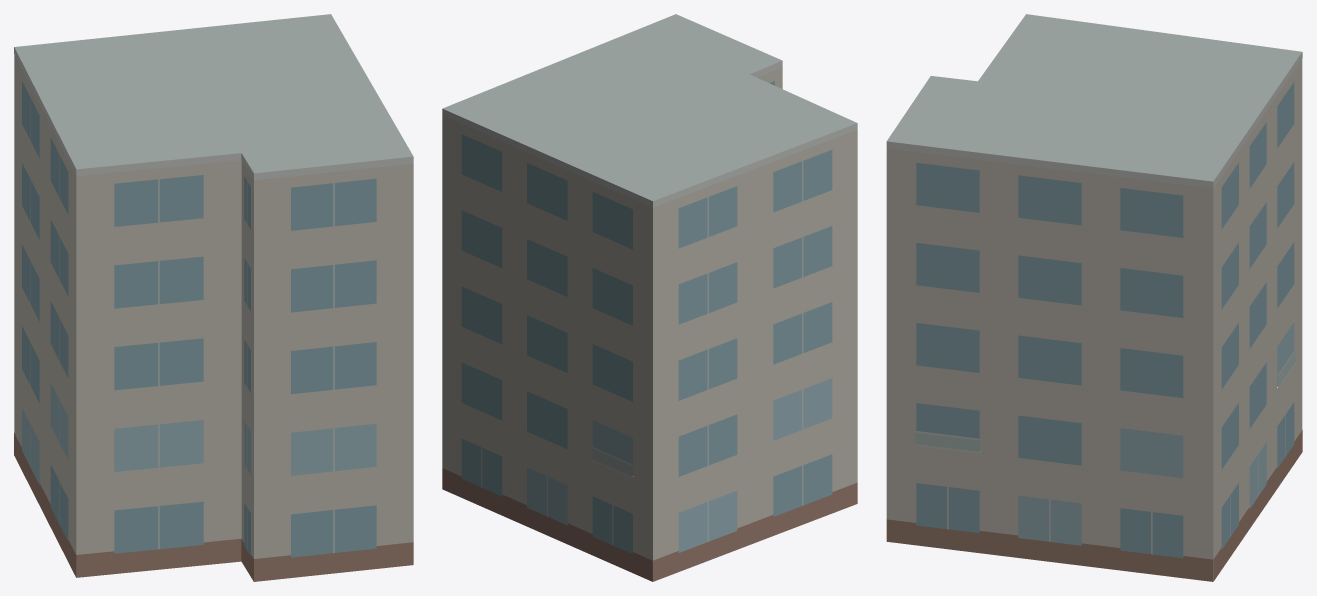
File: survey-upis-32874199.glb
The picture shows the model from 3 angles, left to right: view 1: azimuth 30°, elevation 25°; view 2: azimuth 150°, elevation 25°; view 3: azimuth 270°, elevation 25°; orthographic projection. The views are drawn at different scales.
Visible parts, largest first — view 1: survey-upis-32874199.tmp; view 2: survey-upis-32874199.tmp; view 3: survey-upis-32874199.tmp.
Part boxes in pixels (<box>): survey-upis-32874199.tmp: <box>14,14,413,581</box>; survey-upis-32874199.tmp: <box>442,14,857,581</box>; survey-upis-32874199.tmp: <box>886,14,1302,581</box>.
Size of the model in its own units: 12.84 by 14.3 by 13.47.
